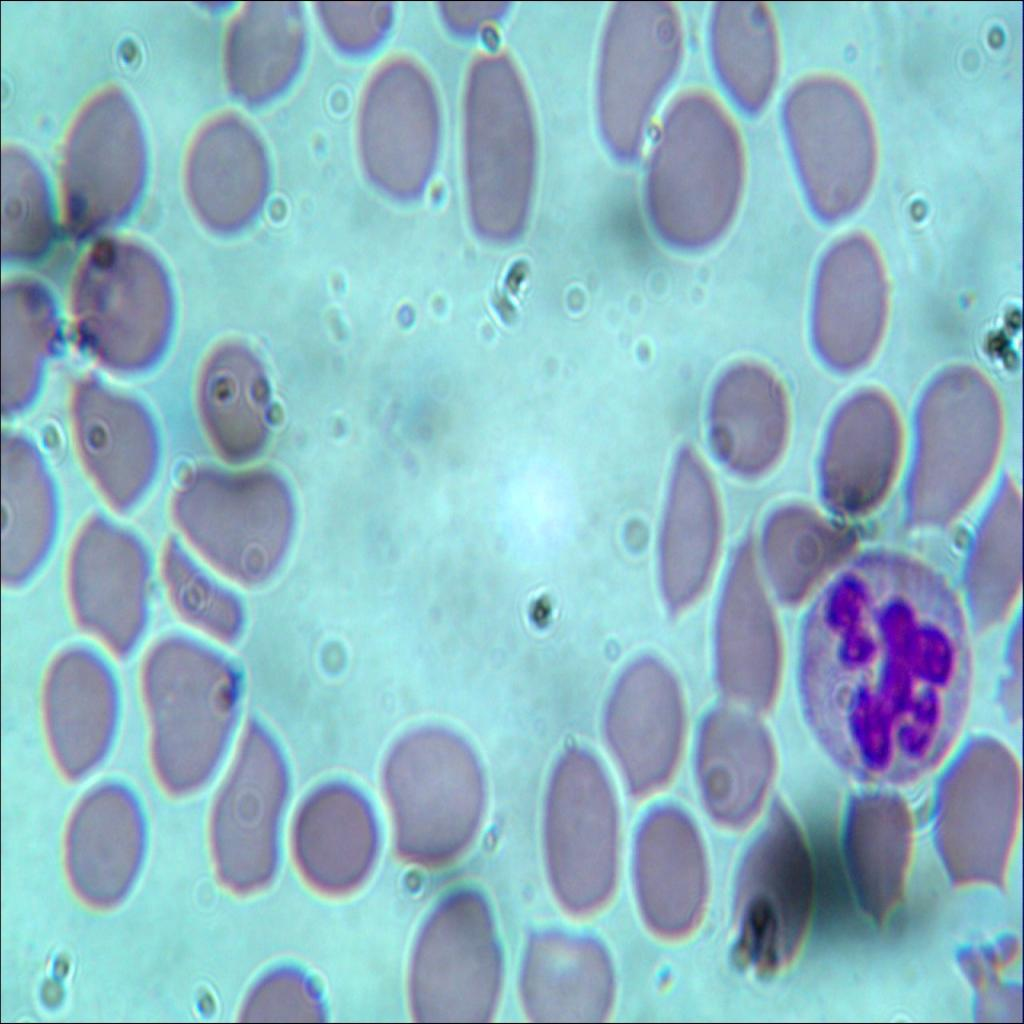Eritrosit: (132, 633, 258, 802), (898, 356, 1004, 534), (168, 444, 298, 586), (378, 708, 490, 865), (534, 729, 626, 915), (462, 42, 543, 248), (638, 92, 740, 255), (396, 865, 498, 1023), (68, 232, 178, 378), (594, 0, 686, 169), (206, 712, 283, 906), (726, 799, 818, 959), (55, 506, 151, 658), (591, 644, 688, 793), (66, 358, 162, 508), (348, 51, 436, 212), (781, 71, 875, 221), (703, 541, 784, 708), (58, 82, 150, 228), (942, 739, 1022, 906), (806, 228, 894, 374), (812, 380, 902, 522), (699, 358, 796, 486), (182, 112, 276, 242), (655, 454, 729, 619), (283, 781, 379, 901), (151, 528, 246, 649), (690, 695, 774, 828), (56, 791, 146, 911), (514, 918, 615, 1023), (40, 644, 118, 776), (198, 330, 275, 458), (846, 795, 918, 931), (966, 468, 1023, 639), (756, 498, 858, 591), (224, 0, 306, 111), (710, 0, 781, 115)
Neutrofil: (789, 548, 979, 795)
